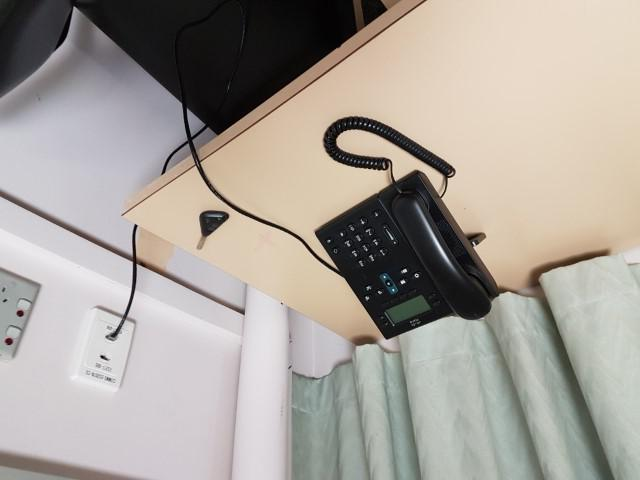key: (191, 210, 231, 254)
